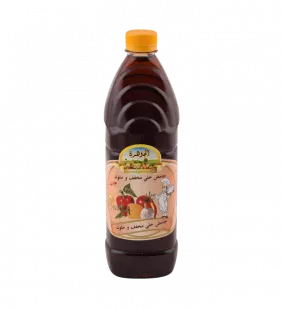EL JAWHARA: (93, 20, 188, 283)
